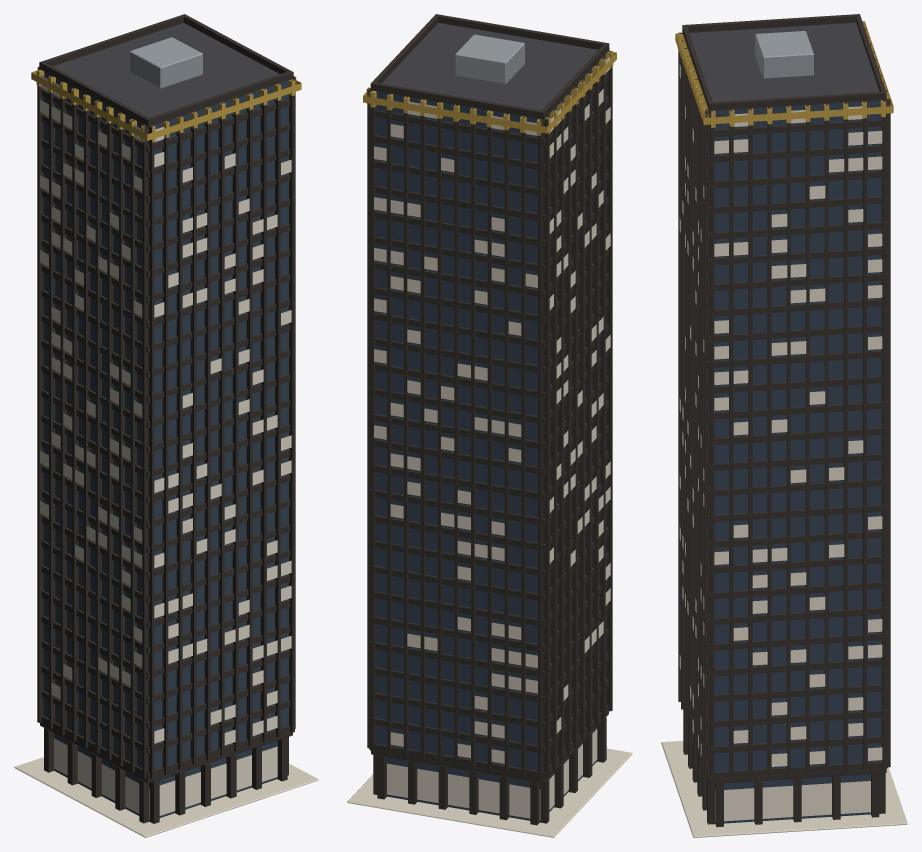
File: 425-california-street.glb
3 renders of one model, left to right at view 1: azimuth 30°, elevation 25°; view 2: azimuth 150°, elevation 25°; view 3: azimuth 270°, elevation 25°, orthographic. The views are drawn at different scales.
Parts seen in each view (by area): view 1: 425-california-street_body, 425-california-street_night_glow; view 2: 425-california-street_body, 425-california-street_night_glow; view 3: 425-california-street_body, 425-california-street_night_glow.
Part boxes in pixels (bbox=[...]): 425-california-street_body: bbox=[14, 14, 318, 837]; 425-california-street_night_glow: bbox=[31, 70, 301, 819]; 425-california-street_body: bbox=[347, 14, 632, 837]; 425-california-street_night_glow: bbox=[363, 52, 616, 819]; 425-california-street_body: bbox=[661, 14, 907, 837]; 425-california-street_night_glow: bbox=[675, 24, 893, 821].
Size of the model in its own units: 34.25 by 109 by 33.03.
